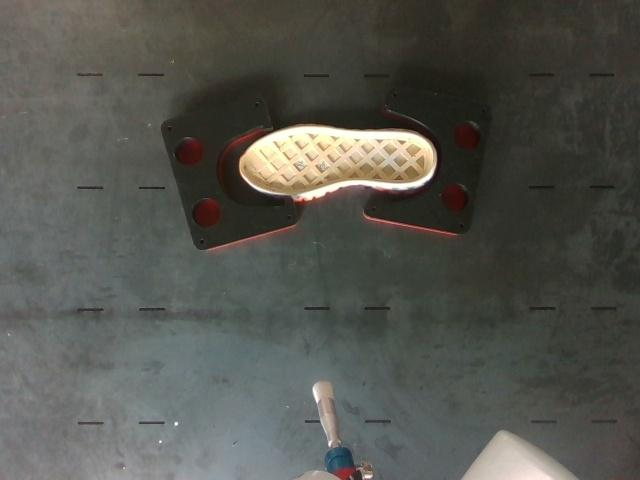shoes: (240, 127, 433, 194)
